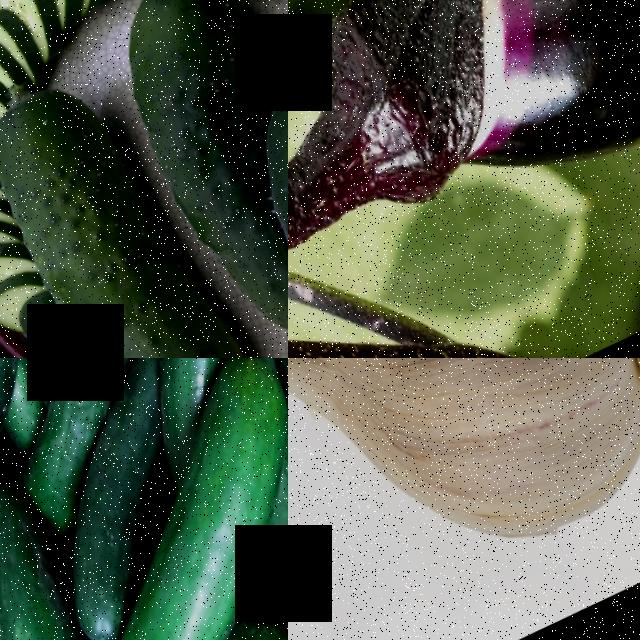cucumber: (0, 61, 250, 358), (106, 358, 288, 601), (81, 0, 288, 212), (224, 30, 288, 358), (65, 562, 281, 640), (0, 530, 146, 640)
eggplant: (347, 0, 640, 227)
garlic: (288, 358, 640, 628)
